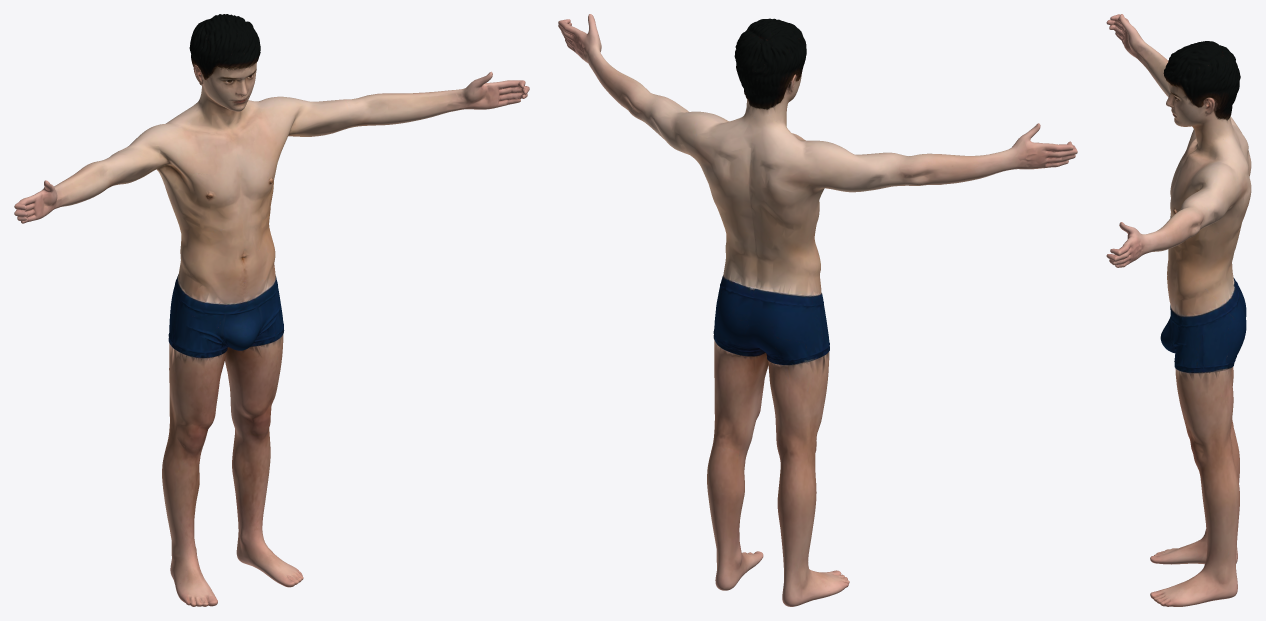
The model's file is mobile.glb.
3 renders of one model, left to right at view 1: azimuth 30°, elevation 25°; view 2: azimuth 150°, elevation 25°; view 3: azimuth 270°, elevation 25°, orthographic. The views are drawn at different scales.
Parts seen in each view (by area): view 1: Mesh_0; view 2: Mesh_0; view 3: Mesh_0.
Part boxes in pixels (x1=…): Mesh_0: x1=14, y1=14, x2=529, y2=606; Mesh_0: x1=558, y1=14, x2=1077, y2=606; Mesh_0: x1=1106, y1=14, x2=1251, y2=606.
Bounding box in the file's own units: 1.81 × 1.88 × 0.4599.
Materials: 1 (1 with a texture image).
